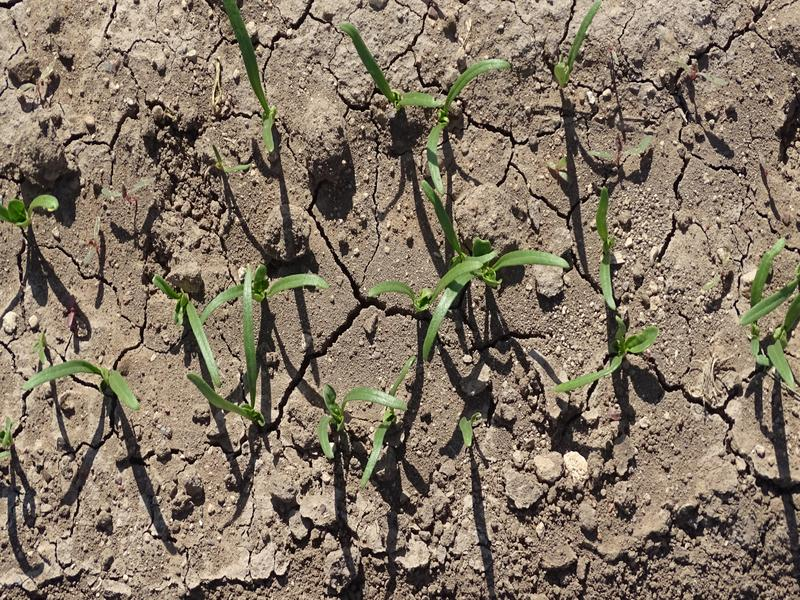Espinaca: (394, 181, 569, 358), (336, 25, 506, 195), (169, 269, 329, 422), (315, 361, 426, 473), (224, 5, 285, 152), (745, 238, 800, 382), (554, 323, 661, 394), (19, 355, 140, 412), (555, 3, 603, 84), (592, 191, 619, 308), (1, 192, 62, 230), (450, 412, 480, 445)
